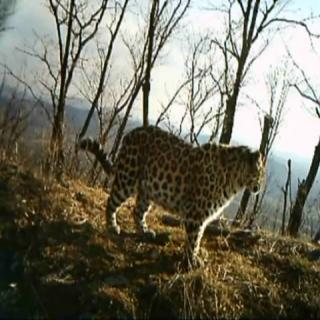Leopard: (76, 103, 280, 274)
